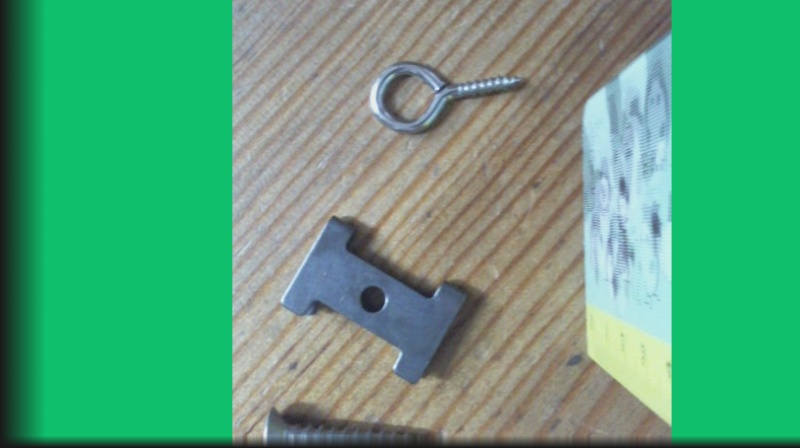O001: (369, 59, 531, 139)
O002: (279, 210, 472, 386)
S001: (258, 403, 446, 447)
